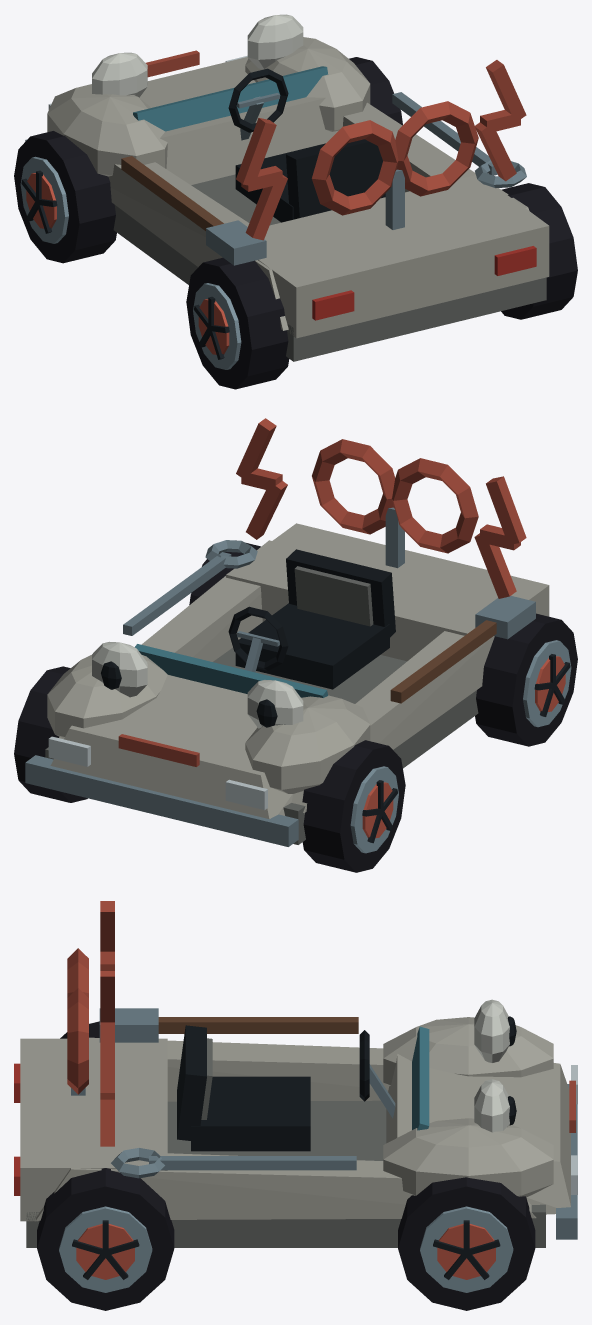
File: kart.glb
3 renders of one model, top to bottom at view 1: azimuth 30°, elevation 25°; view 2: azimuth 150°, elevation 25°; view 3: azimuth 270°, elevation 25°, orthographic. The views are drawn at different scales.
Parts seen in each view (by area): view 1: identity-toy-car-toy-rounded-body-and-wind-up-key, wheel-rear-left, wheel-front-left, identity-toy-car-driver-cockpit, identity-toy-car-motif-tools, identity-toy-car-motif-electric, identity-toy-car-motif-eyes, wheel-rear-right, wheel-front-right; view 2: identity-toy-car-toy-rounded-body-and-wind-up-key, identity-toy-car-driver-cockpit, wheel-front-left, wheel-rear-left, identity-toy-car-motif-tools, identity-toy-car-motif-electric, identity-toy-car-motif-eyes, wheel-front-right; view 3: identity-toy-car-toy-rounded-body-and-wind-up-key, wheel-rear-right, wheel-front-right, identity-toy-car-driver-cockpit, identity-toy-car-motif-tools, identity-toy-car-motif-eyes, identity-toy-car-motif-electric.
Part boxes in pixels (x1=…): identity-toy-car-toy-rounded-body-and-wind-up-key: x1=25, y1=37, x2=549, y2=361; wheel-rear-left: x1=186, y1=257, x2=289, y2=389; wheel-front-left: x1=14, y1=131, x2=116, y2=263; identity-toy-car-driver-cockpit: x1=228, y1=68, x2=385, y2=222; identity-toy-car-motif-tools: x1=121, y1=92, x2=526, y2=265; identity-toy-car-motif-electric: x1=236, y1=60, x2=526, y2=240; identity-toy-car-motif-eyes: x1=92, y1=14, x2=303, y2=97; wheel-rear-right: x1=501, y1=183, x2=577, y2=319; wheel-front-right: x1=349, y1=57, x2=402, y2=125; identity-toy-car-toy-rounded-body-and-wind-up-key: x1=25, y1=439, x2=549, y2=846; identity-toy-car-driver-cockpit: x1=228, y1=549, x2=395, y2=689; wheel-front-left: x1=302, y1=740, x2=405, y2=872; wheel-rear-left: x1=475, y1=613, x2=577, y2=746; identity-toy-car-motif-tools: x1=123, y1=540, x2=535, y2=703; identity-toy-car-motif-electric: x1=236, y1=418, x2=526, y2=598; identity-toy-car-motif-eyes: x1=92, y1=641, x2=303, y2=728; wheel-front-right: x1=14, y1=666, x2=87, y2=802; identity-toy-car-toy-rounded-body-and-wind-up-key: x1=14, y1=948, x2=577, y2=1247; wheel-rear-right: x1=37, y1=1168, x2=174, y2=1310; wheel-front-right: x1=398, y1=1177, x2=535, y2=1310; identity-toy-car-driver-cockpit: x1=177, y1=1025, x2=395, y2=1151; identity-toy-car-motif-tools: x1=99, y1=1008, x2=358, y2=1178; identity-toy-car-motif-eyes: x1=474, y1=999, x2=516, y2=1132; identity-toy-car-motif-electric: x1=100, y1=901, x2=114, y2=1146.
Bounding box in the file's own units: 2.13 × 1.49 × 2.88.
